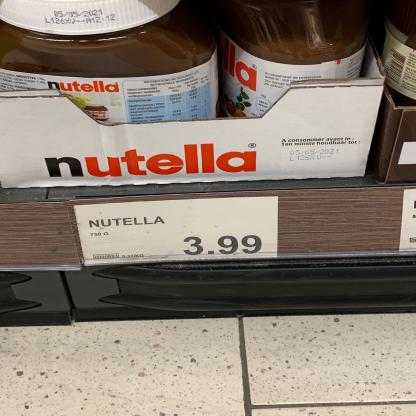prtg: (75, 198, 278, 263)
